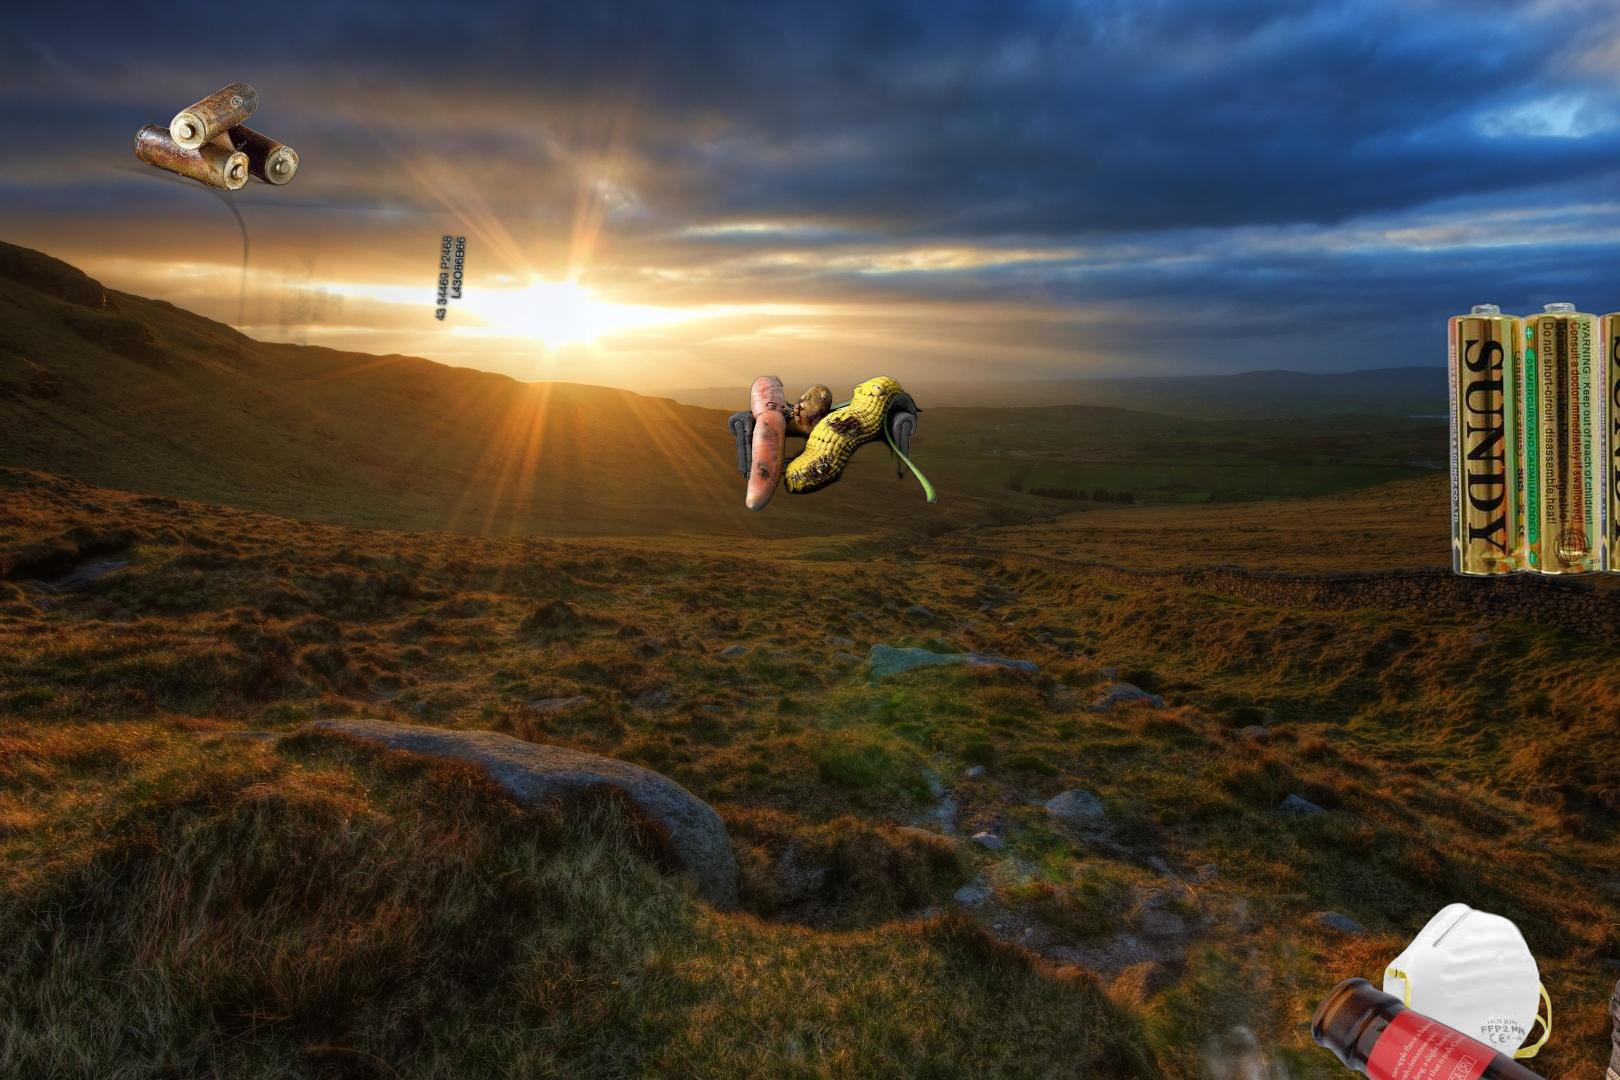battery: (1442, 298, 1620, 580), (131, 80, 303, 194)
biological: (724, 370, 940, 513)
glass: (1307, 975, 1620, 1080)
paper: (74, 148, 586, 380), (821, 892, 1333, 1080)
shoes: (1603, 973, 1620, 1080)
trash: (1380, 900, 1555, 1080)
